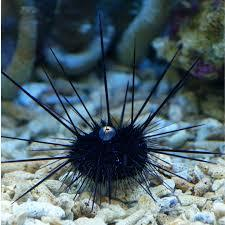urchin: (3, 36, 216, 209)
